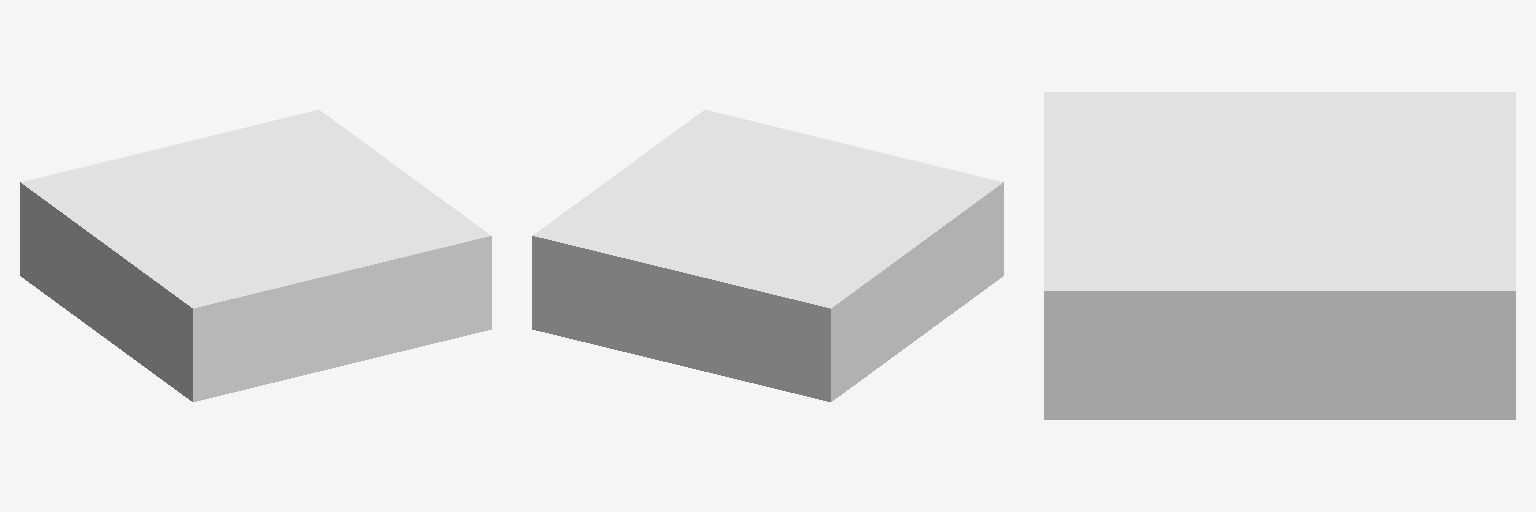
URDF robot description (puck):
<?xml version="0.0" ?>
<robot name="puck">
	<link name="link0_0">
		<inertial>
			<origin rpy="0.00000 -0.00000 0.00000" xyz="0.00000 0.00000 0.00000"/>
			<mass value="0.00000"/>
			<inertia ixx="0.00000" ixy="0" ixz="0" iyy="0.00000" iyz="0" izz="0.00000"/>
		</inertial>
	</link>
	<link name="link0_2">
		<inertial>
			<origin rpy="0.00000 -0.00000 0.00000" xyz="0.00000 0.00000 0.00000"/>
			<mass value="0.00000"/>
			<inertia ixx="0.00000" ixy="0" ixz="0" iyy="0.00000" iyz="0" izz="0.00000"/>
		</inertial>
	</link>
	<link name="link0_3">
		<inertial>
			<origin rpy="0.00000 -0.00000 0.00000" xyz="0.00000 0.00000 0.00000"/>
			<mass value="0.00000"/>
			<inertia ixx="0.00000" ixy="0" ixz="0" iyy="0.00000" iyz="0" izz="0.00000"/>
		</inertial>
	</link>
	<link name="link0_1">
		<inertial>
			<origin rpy="0.00000 -0.00000 0.00000" xyz="0.00000 0.00000 0.00000"/>
			<mass value="0.30000"/>
			<inertia ixx="0.00027" ixy="0" ixz="0" iyy="0.00027" iyz="0" izz="0.00050"/>
		</inertial>
		<visual>
			<origin rpy="0.00000 -0.00000 0.00000" xyz="0.00000 0.00000 0.00000"/>
			<geometry>
				<box size="0.10000 0.10000 0.03000"/>
			</geometry>
			<material name="mat_2_0">
				<color rgba="1.00000 1.00000 1.00000 1.00000" />
			</material>
		</visual>
		<collision>
			<origin rpy="0.00000 -0.00000 0.00000" xyz="0.00000 0.00000 0.00000"/>
			<geometry>
				<box size="0.10000 0.10000 0.03000"/>
			</geometry>
		</collision>
	</link>
	<joint name="goal_slidex" type="prismatic">
		<parent link="link0_0"/>
		<child link="link0_2"/>
		<limit effort="0.00000" lower="-0.20000" upper="0.20000" velocity="0.00000"/>
		<dynamics damping="1.0" friction="0.0001"/>
		<origin rpy="0.00000 -0.00000 0.00000" xyz="0.00000 0.00000 0.00000"/>
		<axis xyz="1.00000 0.00000 0.00000"/>
	</joint>
	<joint name="goal_slidey" type="prismatic">
		<parent link="link0_2"/>
		<child link="link0_3"/>
		<limit effort="0.00000" lower="0.00000" upper="0.30000" velocity="0.00000"/>
		<dynamics damping="1.0" friction="0.0001"/>
		<origin rpy="0.00000 -0.00000 0.00000" xyz="0.00000 0.00000 0.00000"/>
		<axis xyz="0.00000 1.00000 0.00000"/>
	</joint>
	<joint name="jointfix_2_3" type="fixed">
		<parent link="link0_3"/>
		<child link="link0_1"/>
		<dynamics damping="1.0" friction="0.0001"/>
		<origin rpy="0.00000 -0.00000 0.00000" xyz="0.00000 0.00000 0.00000"/>
		<axis xyz="0.00000 0.00000 0.00000"/>
	</joint>
</robot>

--- Render facts (derived) ---
Views: 3 orthographic renders of the robot side by side, from view 1: azimuth 30°, elevation 25°; view 2: azimuth 150°, elevation 25°; view 3: azimuth 270°, elevation 25°.
Model puck with 4 links and 3 joints (2 prismatic, 1 fixed), rooted at link0_0, posed every joint at zero.
Links seen in each view (by area): view 1: link0_1; view 2: link0_1; view 3: link0_1.
Boxes of the visible links, left/top/right/bottom form: link0_1: left=20, top=110, right=491, bottom=401; link0_1: left=532, top=110, right=1003, bottom=401; link0_1: left=1044, top=92, right=1515, bottom=419.
Bounding box of the posed robot: 0.1 × 0.1 × 0.03 m (x, y, z).
Geometry: primitives only (box / cylinder / sphere), no mesh files.